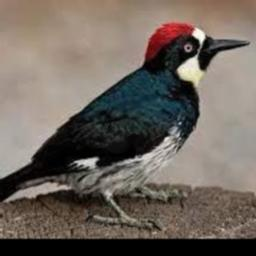Woodpecker: (0, 21, 251, 226)
